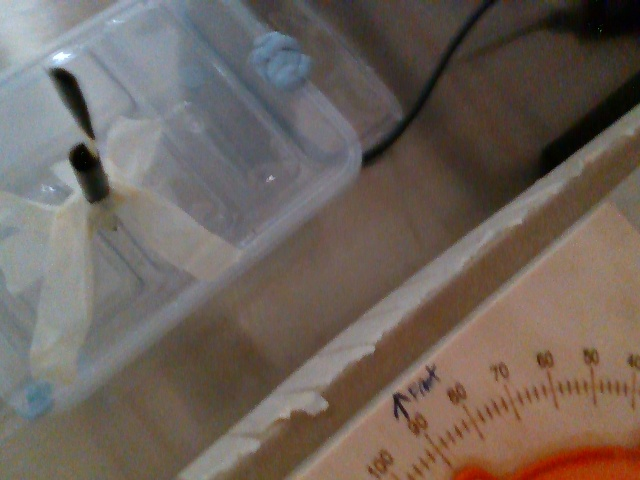test_strip: (46, 67, 101, 155)
